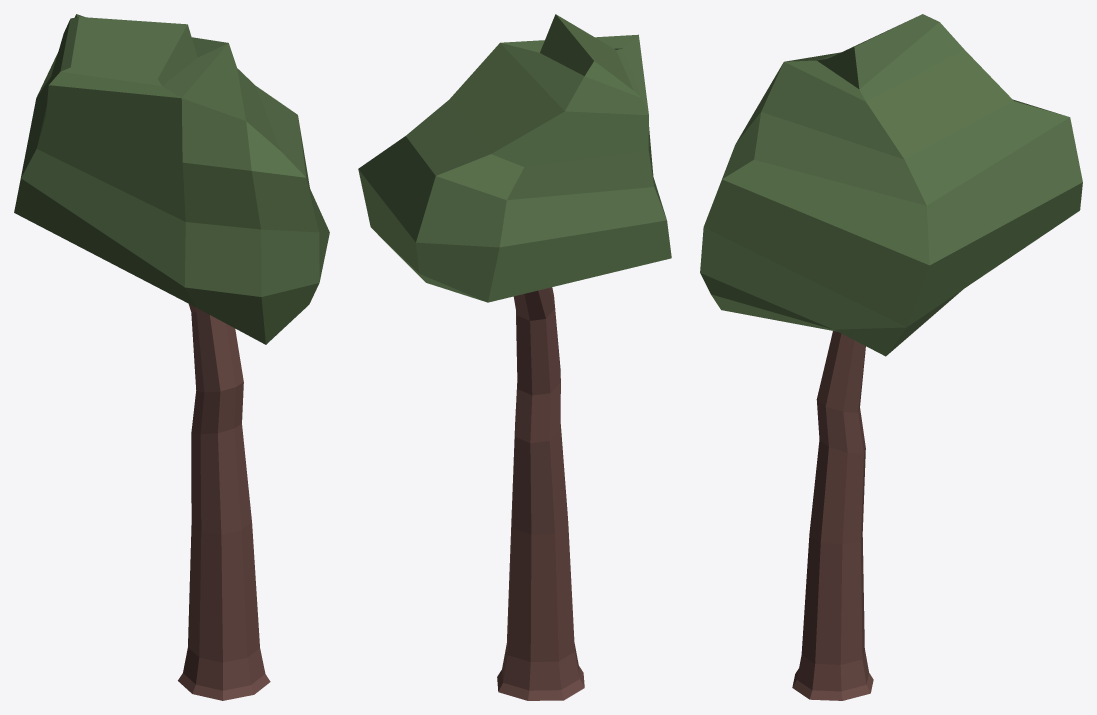
Rendered from Orange_2.glb.
The picture shows the model from 3 angles, left to right: view 1: azimuth 30°, elevation 25°; view 2: azimuth 150°, elevation 25°; view 3: azimuth 270°, elevation 25°; orthographic projection. The views are drawn at different scales.
Parts seen in each view (by area): view 1: Orange_2; view 2: Orange_2; view 3: Orange_2.
Part boxes in pixels (bbox=[...]): Orange_2: bbox=[14, 14, 329, 700]; Orange_2: bbox=[358, 14, 671, 700]; Orange_2: bbox=[700, 14, 1082, 700].
Size of the model in its own units: 0.4385 by 0.9389 by 0.5213.
